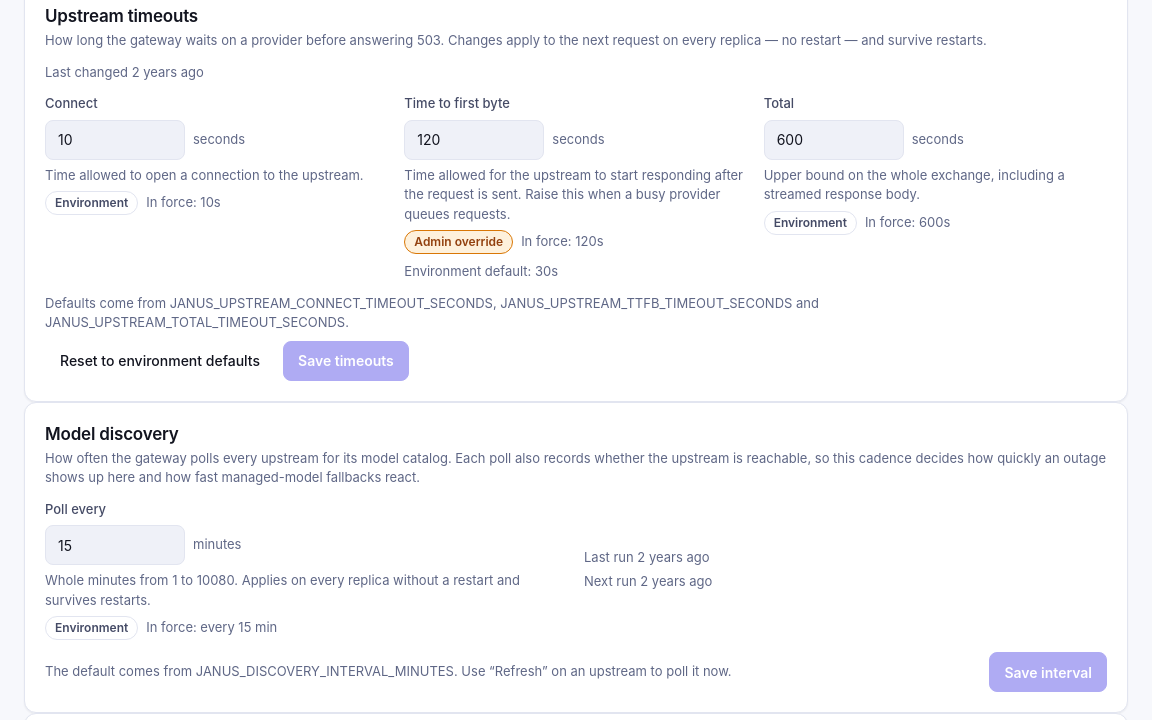
Upstream timeouts panel › flags an admin override with its environment default and offers a reset that DELETEs the overrides
(page scrolled)
expect the text "Admin override" is shown: met, box [404,230,513,254]
expect the text "Environment default: 30s" is shown: met, box [404,262,558,282]
Click the button "Reset to environment defaults": click(160, 361) [45,341,275,381]
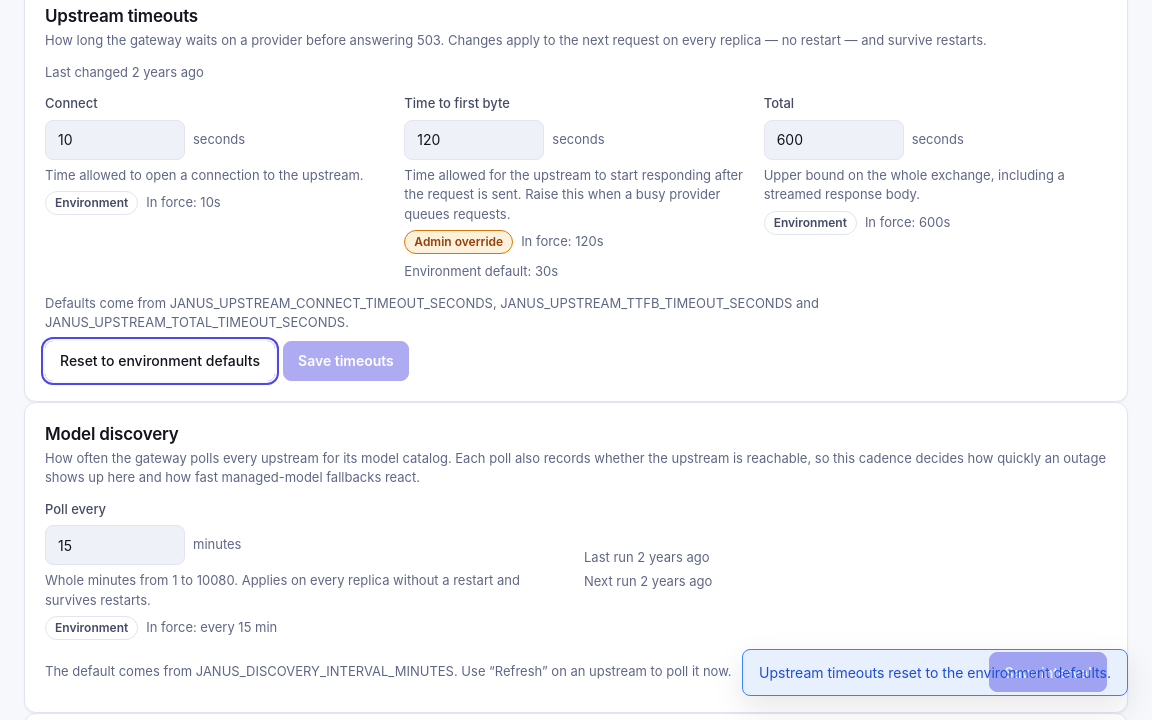
expect the text "Upstream timeouts reset to the environment defaults." is shown: met, box [742,649,1128,696]
